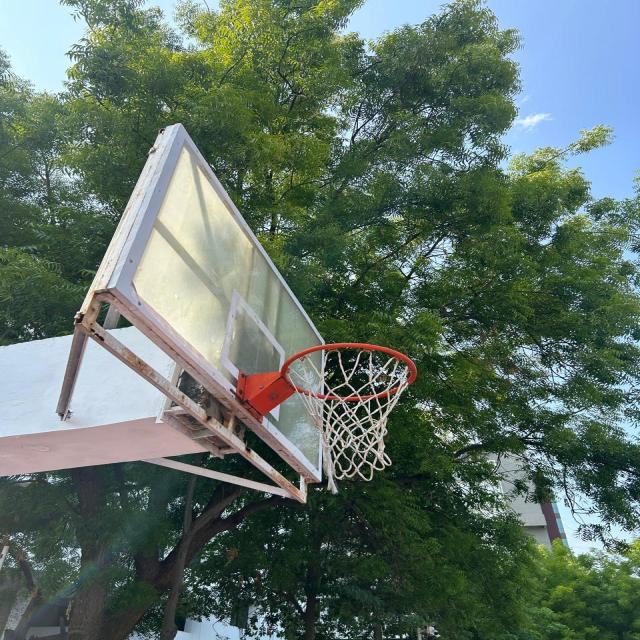hoop: (241, 327, 443, 512)
